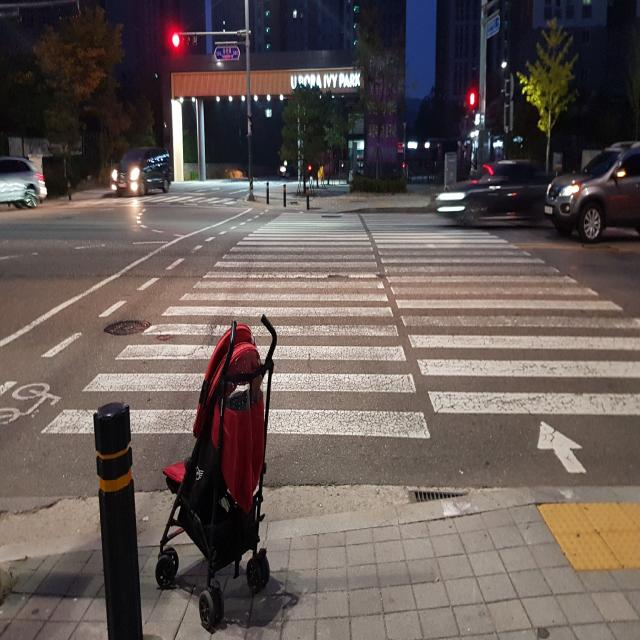빨간불: (465, 88, 481, 127)
횡단보도: (41, 214, 640, 476)
